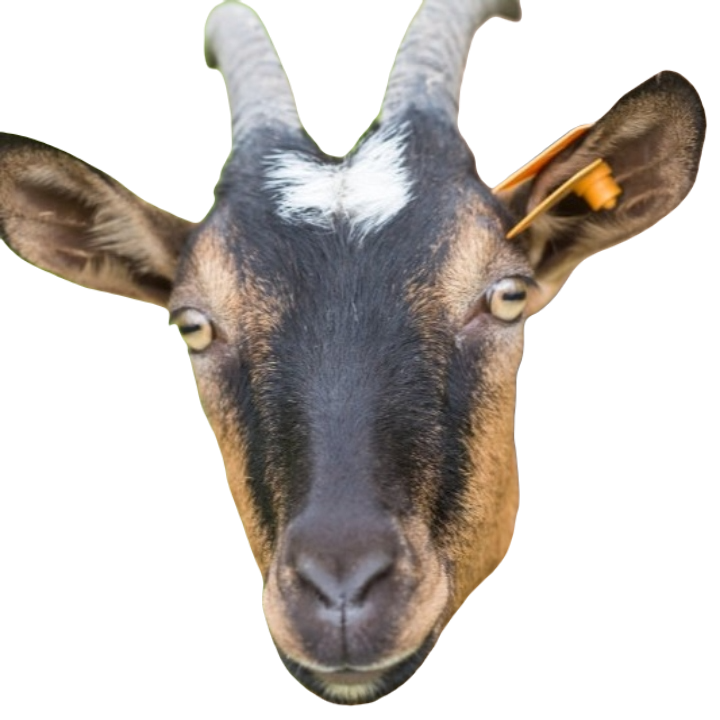Goat: (1, 0, 706, 710)
